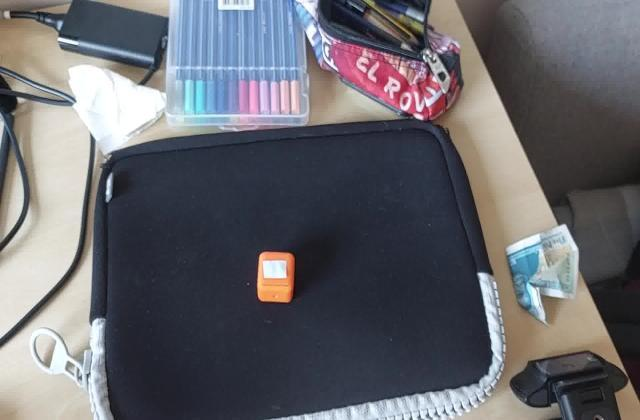sticker: (256, 252, 296, 306)
white: (260, 258, 290, 280)
